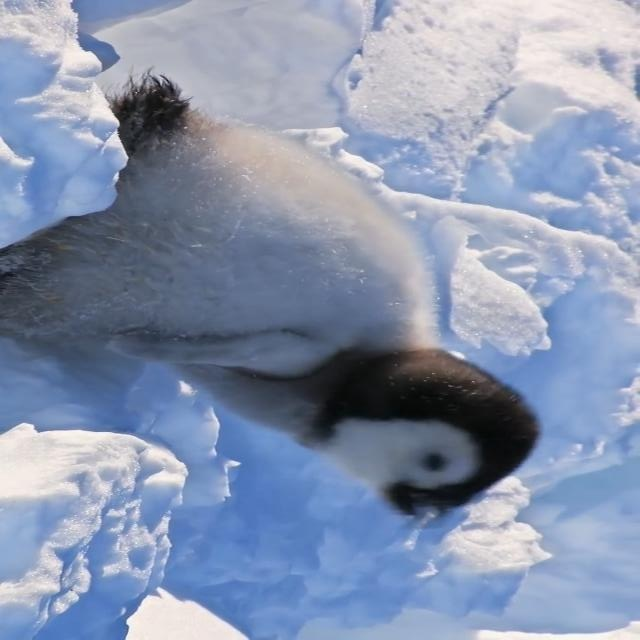penguin: (4, 68, 541, 516)
